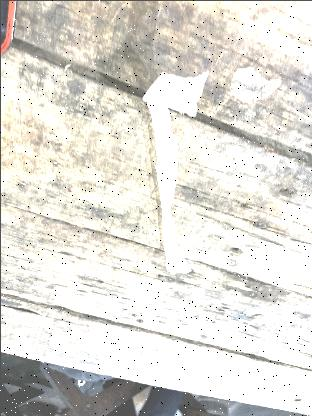Others: (142, 68, 206, 280), (227, 67, 272, 102)
